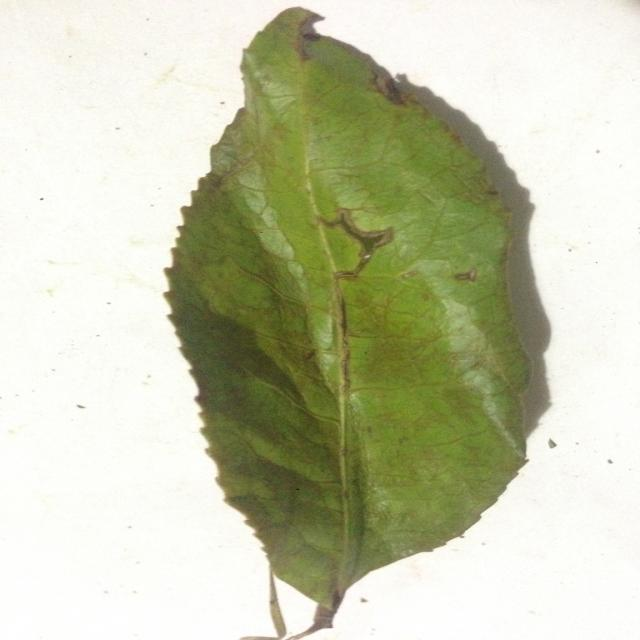Red Leaf Spot: (142, 0, 572, 608)
